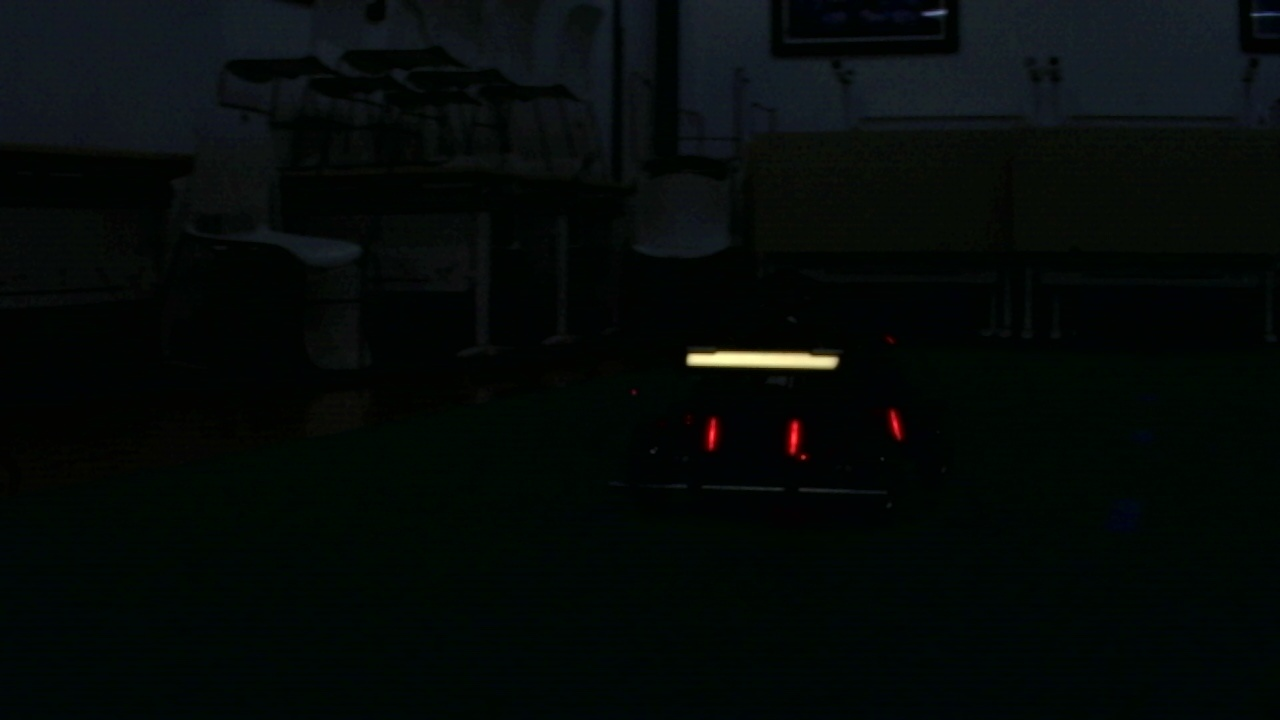lamp: (782, 420, 802, 454), (885, 408, 903, 441), (706, 413, 719, 457)
pair1: (705, 421, 800, 453)
